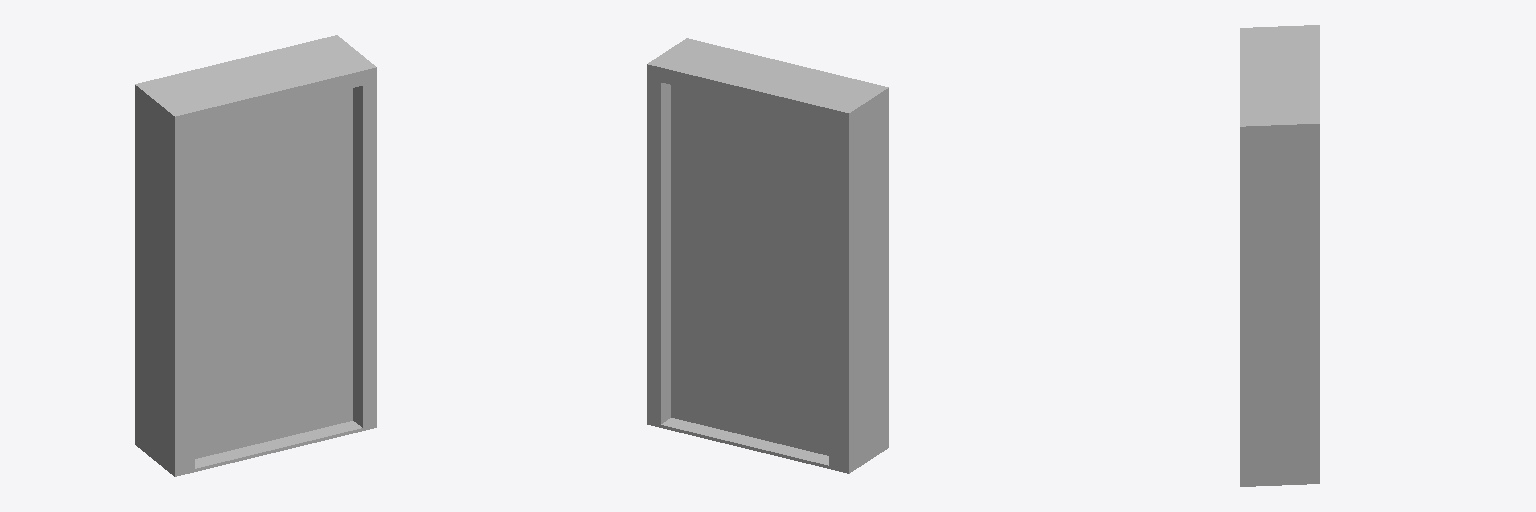
The model's file is door.obj.
The picture shows the model from 3 angles: view 1: azimuth 30°, elevation 25°; view 2: azimuth 150°, elevation 25°; view 3: azimuth 270°, elevation 25°; orthographic projection.
Parts seen in each view (by area): view 1: Cube; view 2: Cube; view 3: Cube.
Part boxes in pixels (bbox=[...]): Cube: bbox=[135, 35, 376, 476]; Cube: bbox=[647, 38, 888, 473]; Cube: bbox=[1240, 25, 1319, 486].
Bounding box in the file's own units: 1.17 × 2.02 × 0.4017.